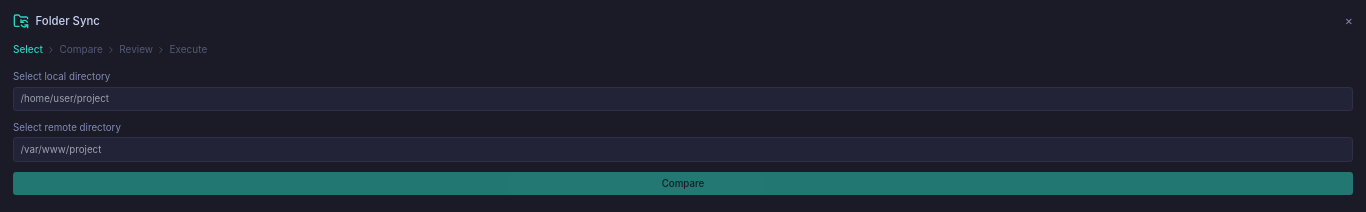
Scenario: FolderSyncWizard › cycles a row's sync action through upload → download → skip
The width and height of the screenshot is (1366, 212).
Type "/local/project" into the field with placeholder "/home/user/project" at (683, 99), box [13,86,1353,111]
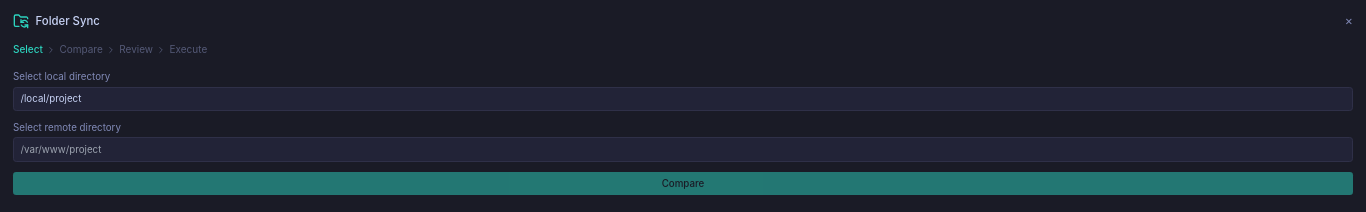
Type "/remote/project" into the field with placeholder "/var/www/project" at (683, 150), box [13,137,1353,162]
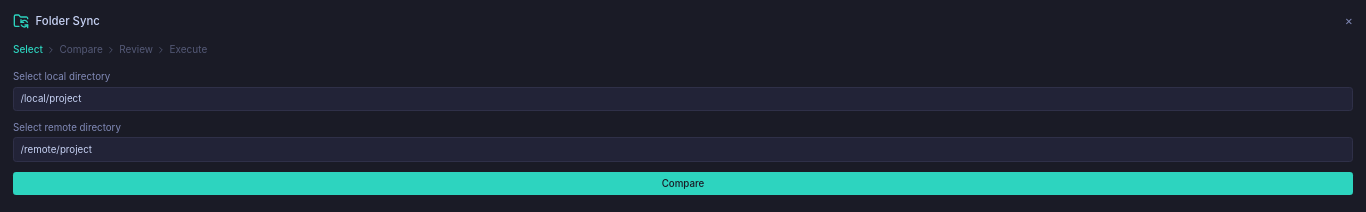
Click the button "Compare" at (683, 183), box [13,172,1353,195]
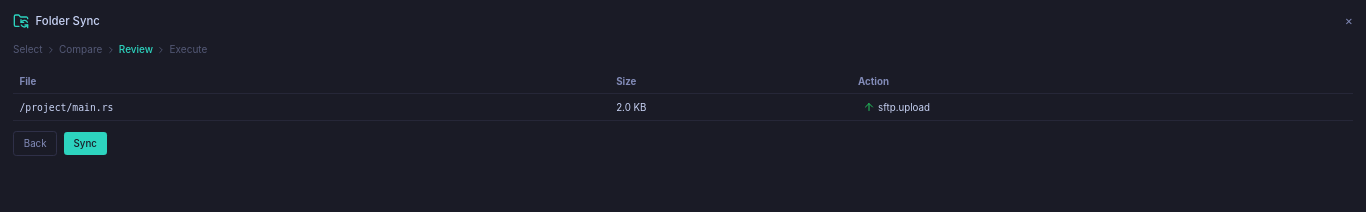
Now the text "/project/main.rs" is shown, box [13,94,610,120]
Click the button "sftp.upload" at (896, 107), box [858,99,935,115]
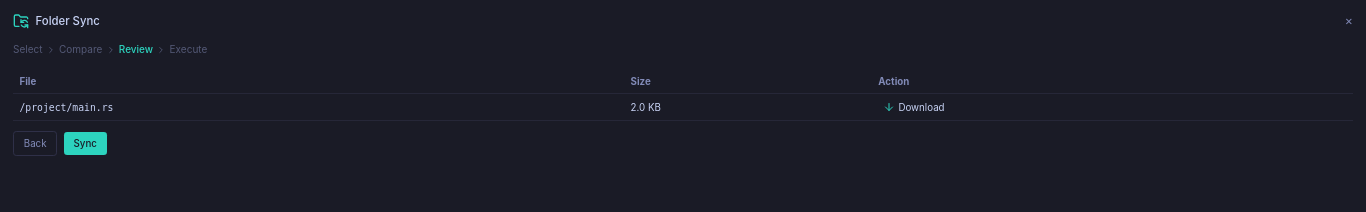
Now the text "Download" is shown, box [898,100,945,114]
Click the button "sftp.upload" at (914, 107), box [878,99,950,115]
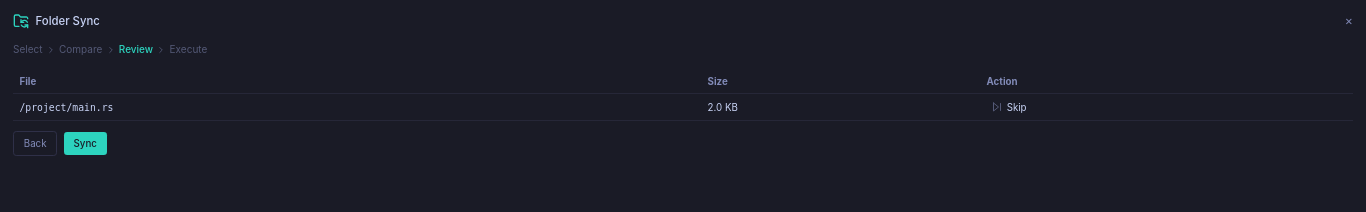
Now the text "Skip" is shown, box [1007,100,1027,114]
